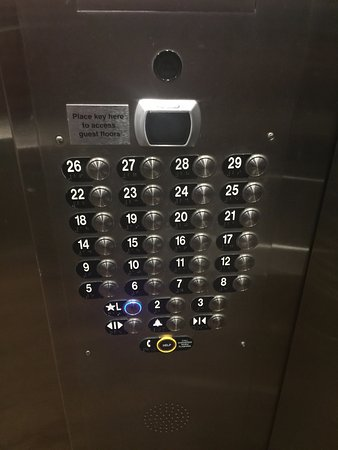button: (60, 156, 112, 183), (116, 154, 165, 182), (169, 154, 219, 180), (64, 184, 114, 210), (222, 152, 270, 179), (117, 183, 166, 208), (219, 180, 266, 205), (169, 182, 217, 206), (168, 207, 216, 231), (119, 209, 166, 233), (71, 234, 118, 258), (69, 211, 116, 234), (217, 206, 264, 229), (214, 251, 258, 274), (216, 230, 260, 252), (121, 234, 167, 255), (122, 255, 165, 277), (169, 253, 212, 275), (169, 232, 213, 253), (75, 258, 119, 279), (78, 279, 121, 300), (147, 295, 188, 316), (123, 277, 166, 297), (168, 275, 211, 295), (103, 298, 144, 318), (190, 293, 228, 314), (138, 335, 179, 354), (213, 274, 253, 293), (105, 317, 144, 336), (147, 315, 186, 334), (189, 313, 227, 331)
